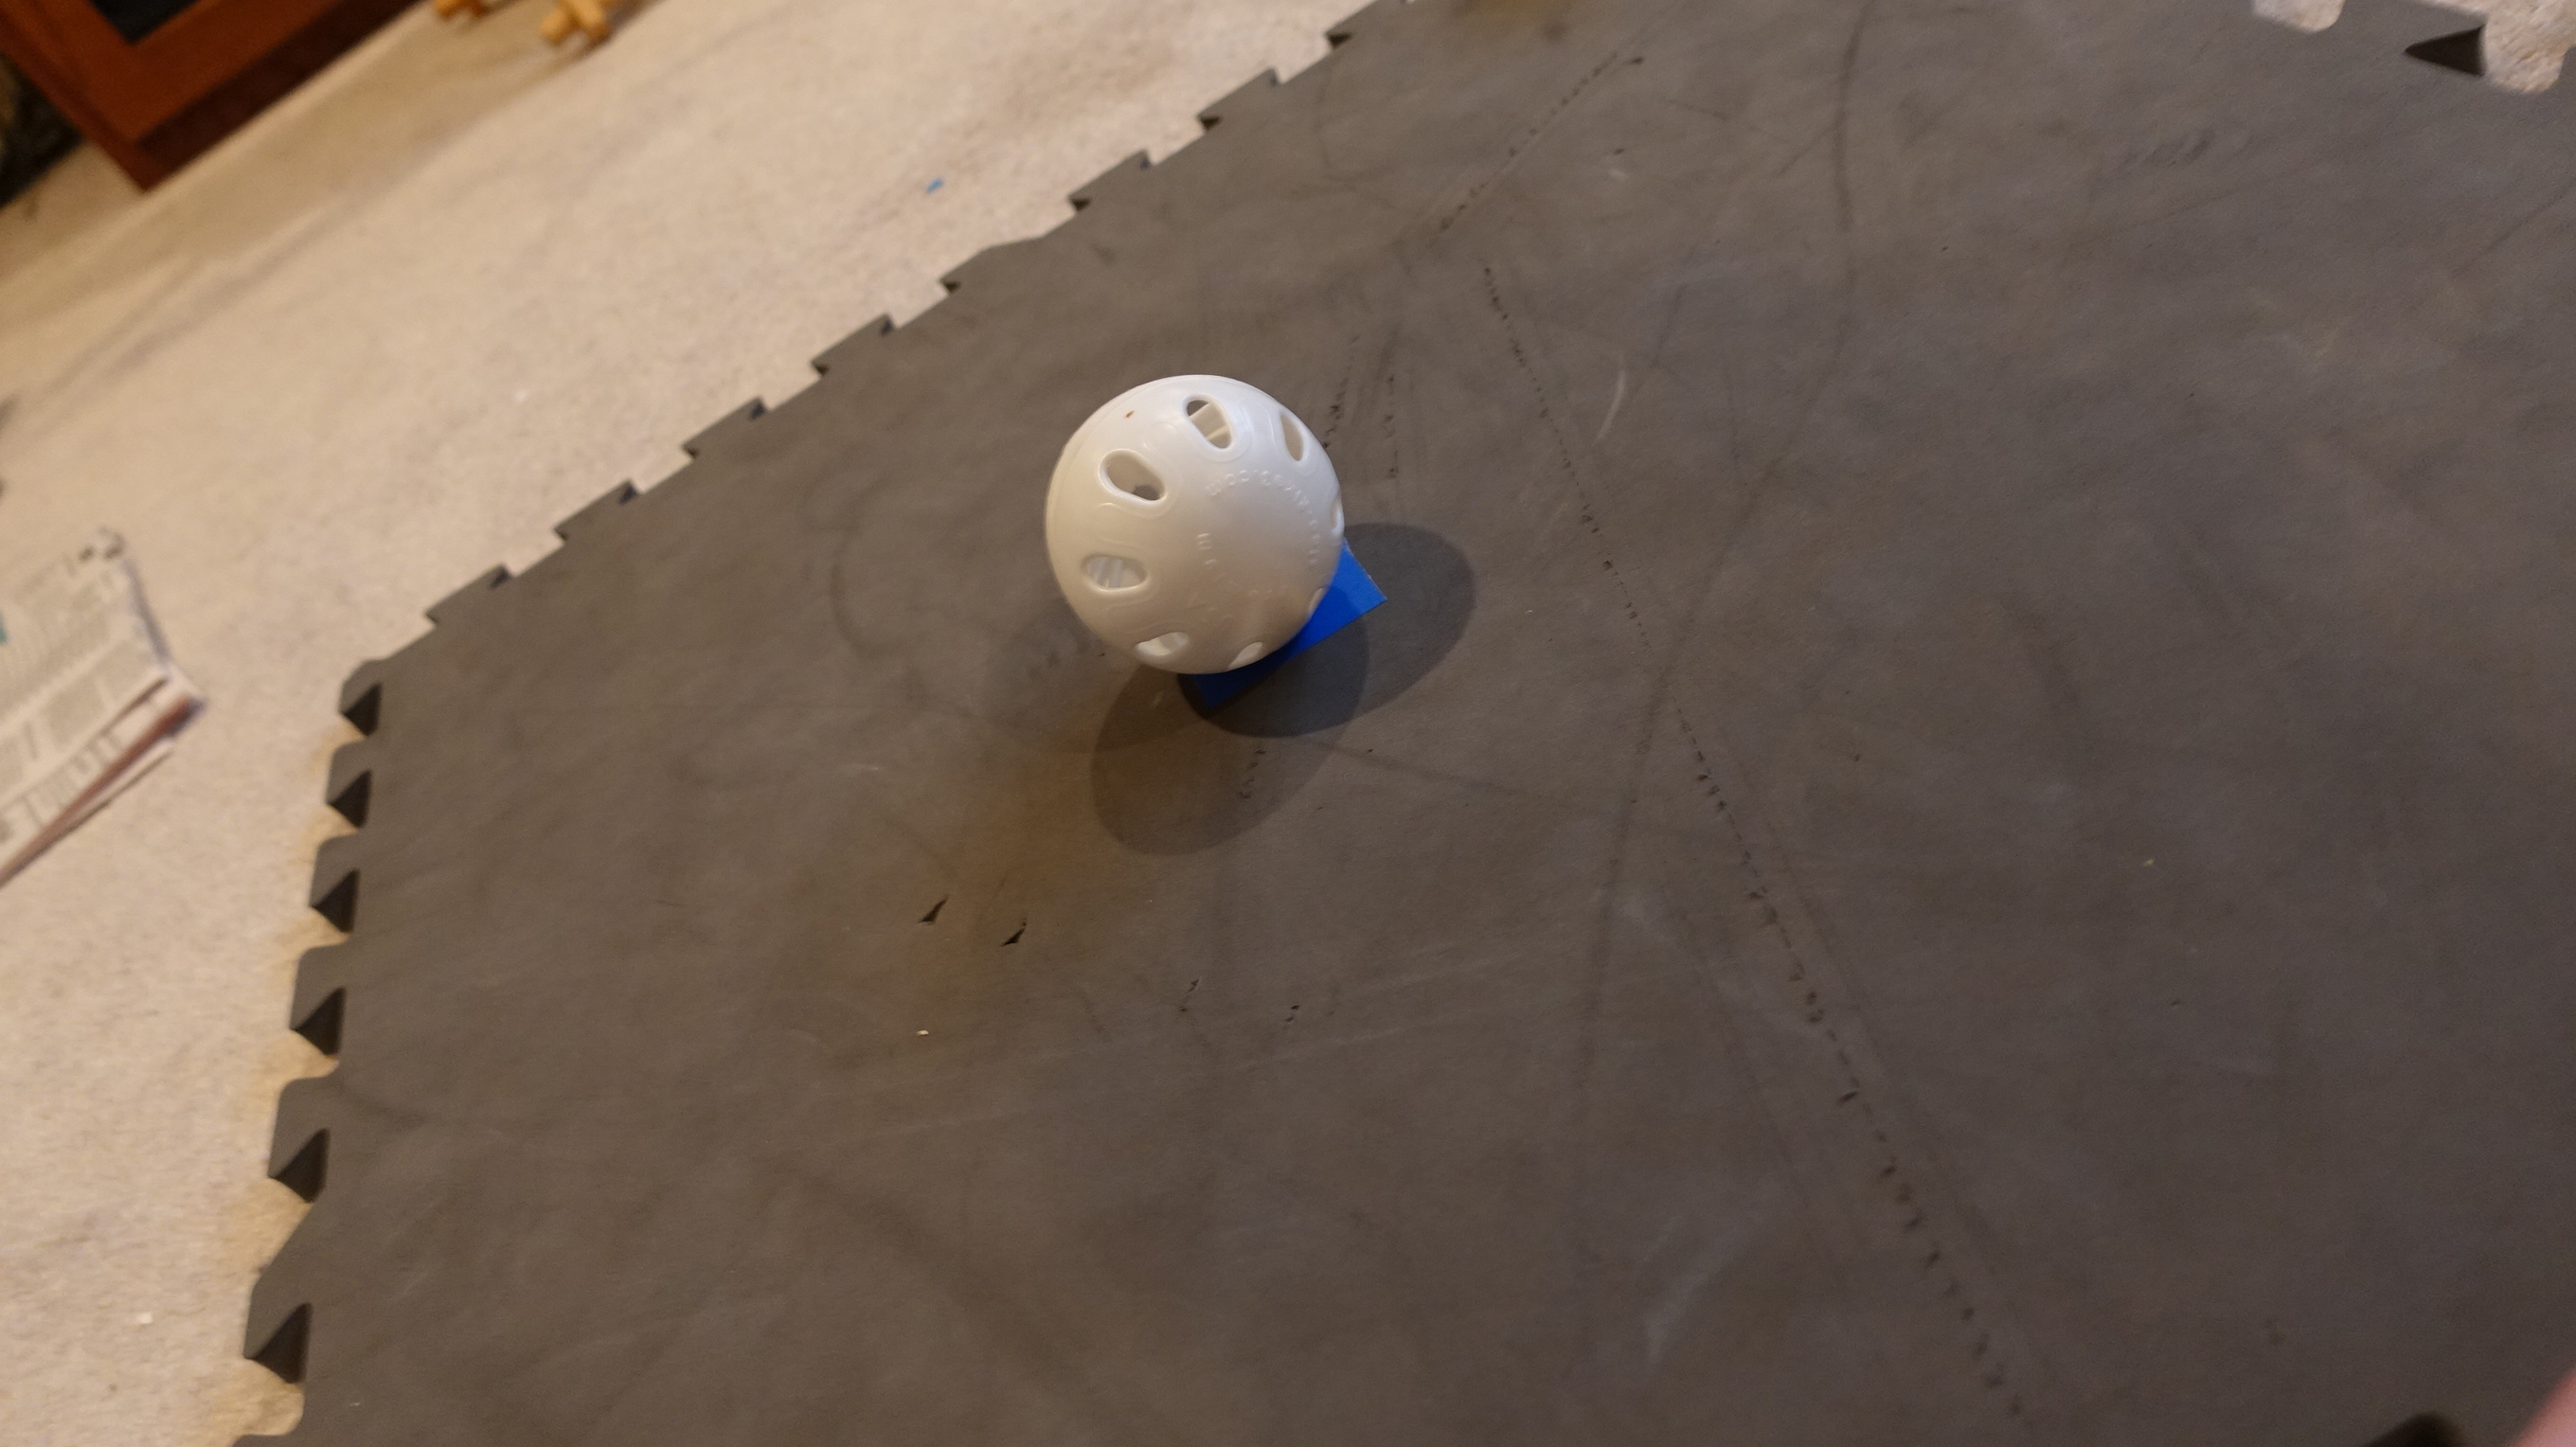silver: (1039, 366, 1352, 676)
